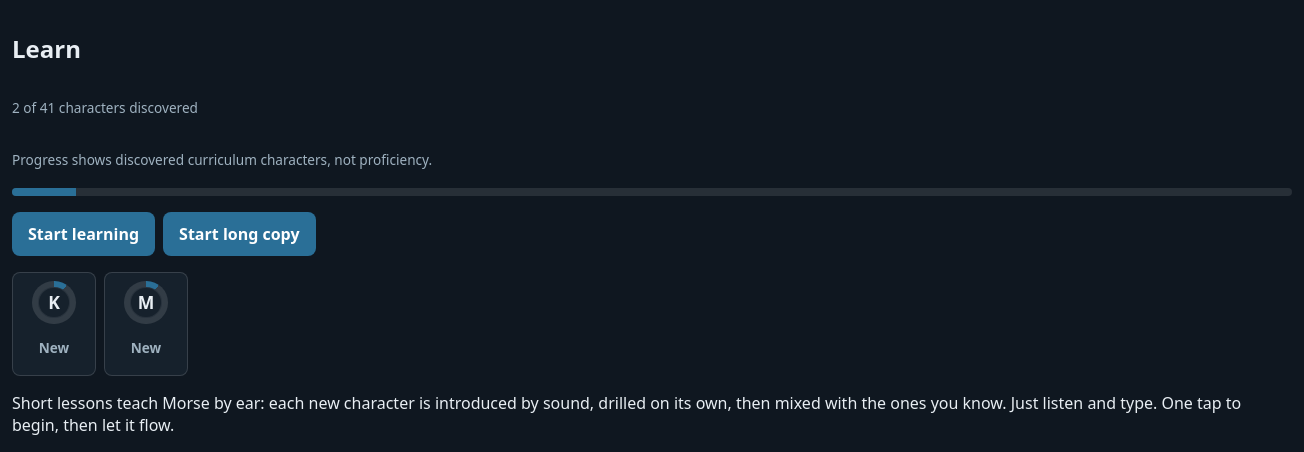
it: LearnScreen input gating › shows Start long copy at two unlocked characters and starts continuous copy directly
Click the button "Start long copy" at (239, 234), box x1=163 y1=212 x2=316 y2=256
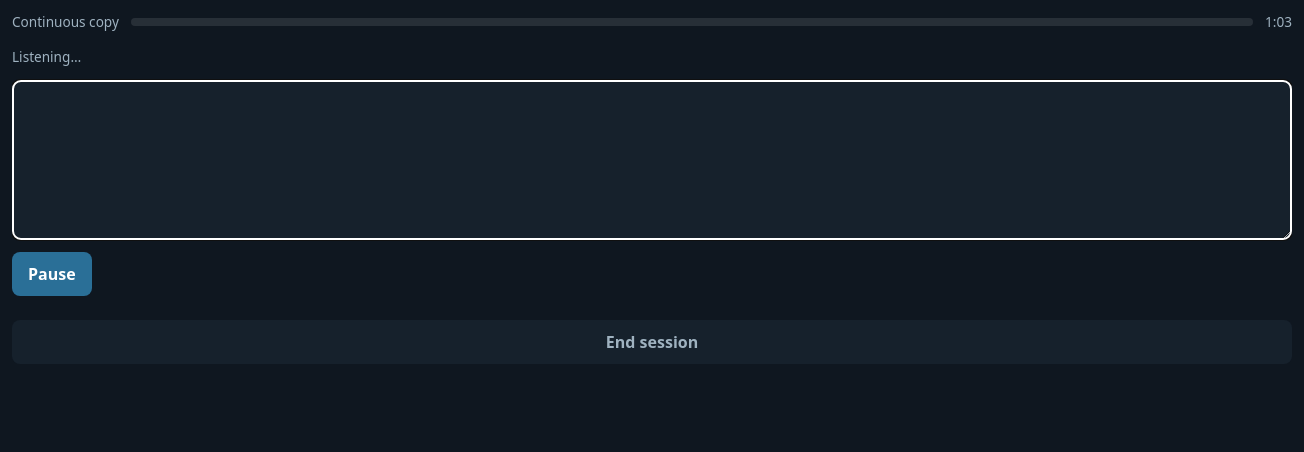
Expected: the text box named "Continuous copy" is shown, x1=12 y1=80 x2=1292 y2=240
